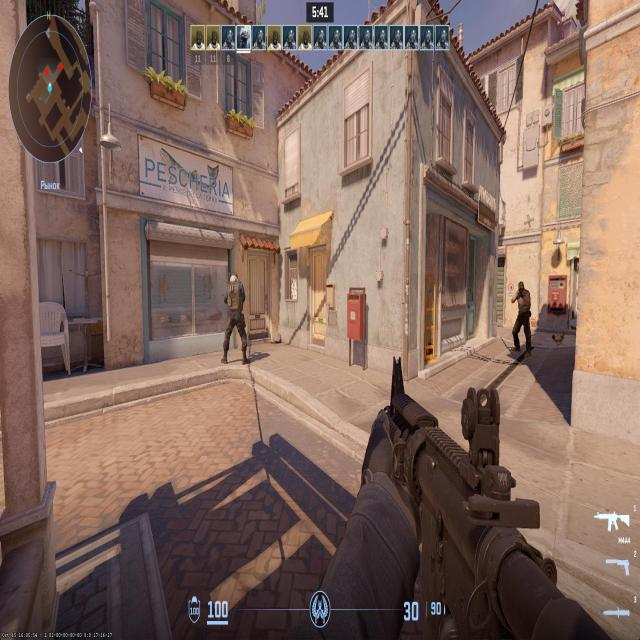CT: (226, 273, 244, 362)
CT_heat: (234, 272, 238, 282)
T: (520, 287, 529, 347)
T_heat: (522, 288, 526, 294)
